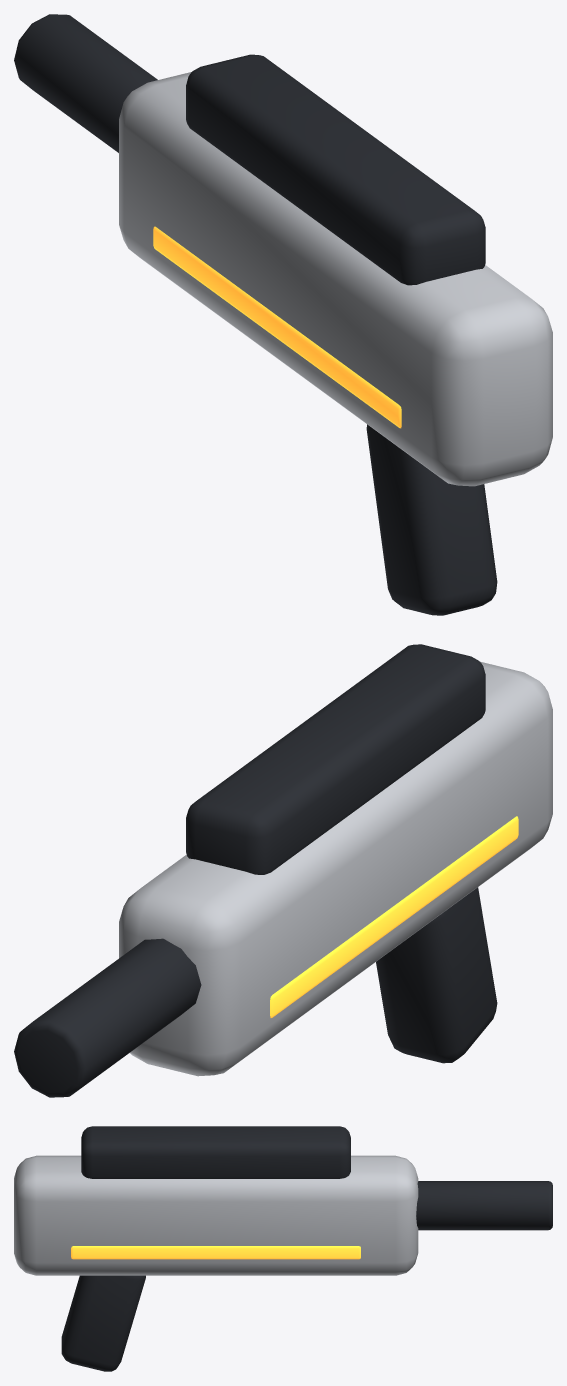
The model's file is nanorifle.glb.
3 renders of one model, top to bottom at view 1: azimuth 30°, elevation 25°; view 2: azimuth 150°, elevation 25°; view 3: azimuth 270°, elevation 25°, orthographic. The views are drawn at different scales.
Visible parts, largest first — view 1: Body, Top, Grip, Barrel, Glow; view 2: Body, Top, Barrel, Grip, Glow; view 3: Body, Top, Barrel, Grip, Glow.
Part boxes in pixels (x1,y1,x2,y2): Body: (119, 72, 552, 486); Top: (186, 54, 485, 285); Grip: (366, 424, 497, 615); Barrel: (14, 14, 157, 152); Glow: (153, 226, 401, 428); Body: (119, 661, 552, 1076); Top: (186, 644, 485, 874); Barrel: (14, 938, 201, 1097); Grip: (376, 887, 497, 1063); Glow: (270, 816, 518, 1017); Body: (14, 1155, 418, 1275); Top: (81, 1126, 350, 1178); Barrel: (416, 1181, 552, 1230); Grip: (61, 1275, 145, 1371); Glow: (71, 1246, 360, 1259).
Bounding box in the file's own units: 0.072 × 0.2271 × 0.48.
